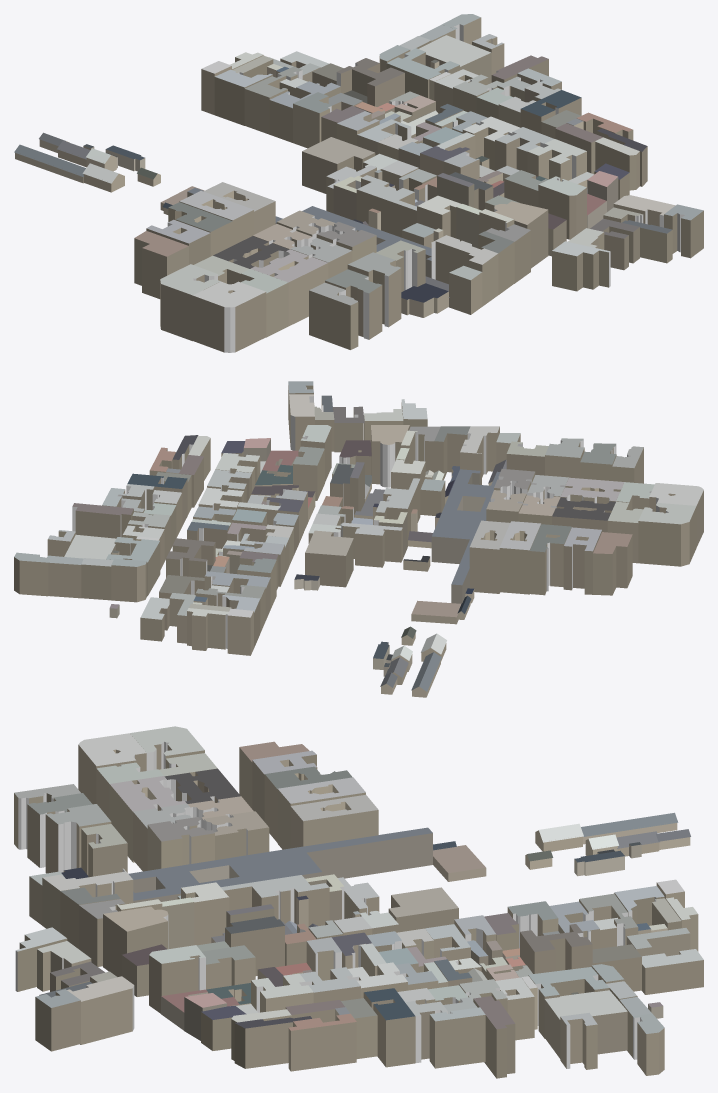
3 views of the same model, one above another, from view 1: azimuth 30°, elevation 25°; view 2: azimuth 150°, elevation 25°; view 3: azimuth 270°, elevation 25° (orthographic). The views are drawn at different scales.
Visible parts, largest first — view 1: tuile; view 2: tuile; view 3: tuile.
Part boxes in pixels (x1,y1,x2,y2): tuile: [14, 14, 703, 352]; tuile: [14, 381, 703, 697]; tuile: [14, 726, 703, 1078].
Bounding box in the file's own units: 272 × 29.96 × 268.
